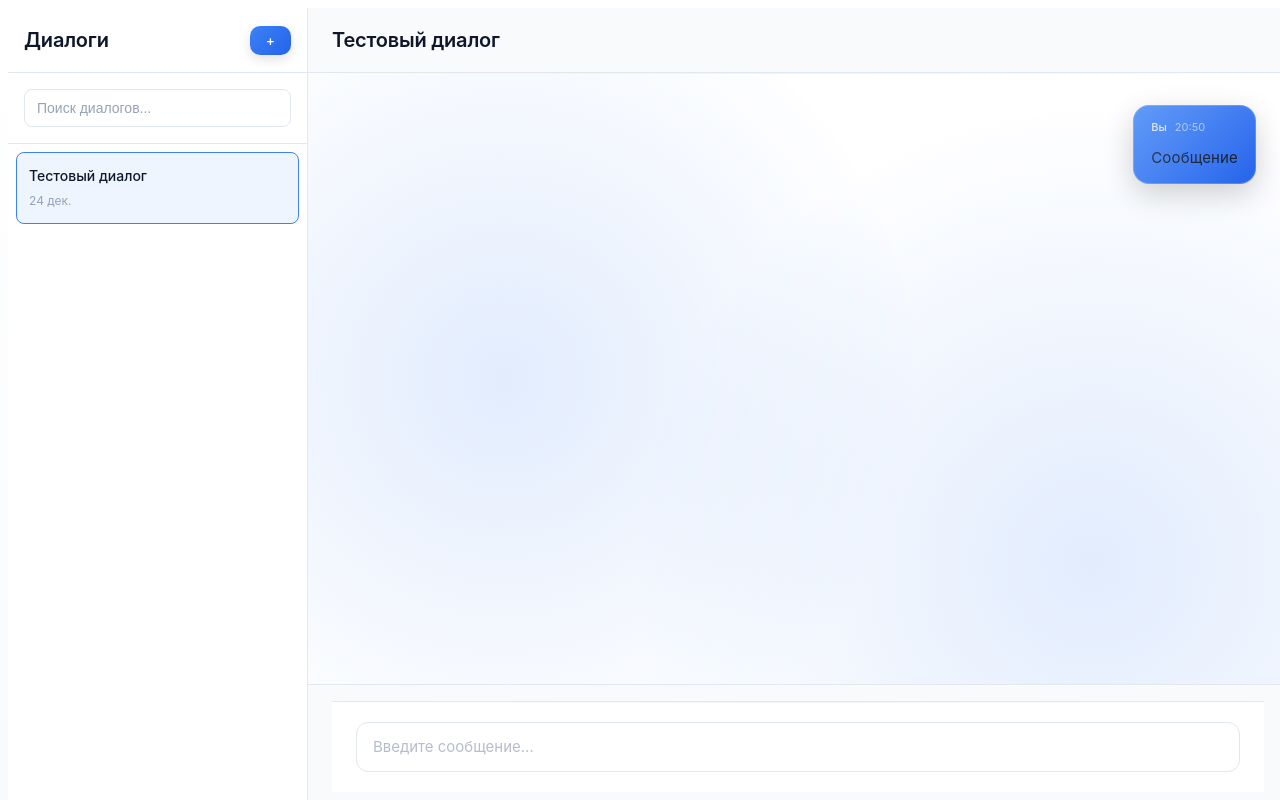
Test: ChatPage тесты › Тест 3: Ошибка отправки › должна показываться ошибка при неудачной отправке
Expected: the text "Тестовый диалог" is shown, [29,167,147,184]
Type "Новое сообщение" into the text box with placeholder "Введите сообщение..." at (798,747), box [356,722,1240,772]
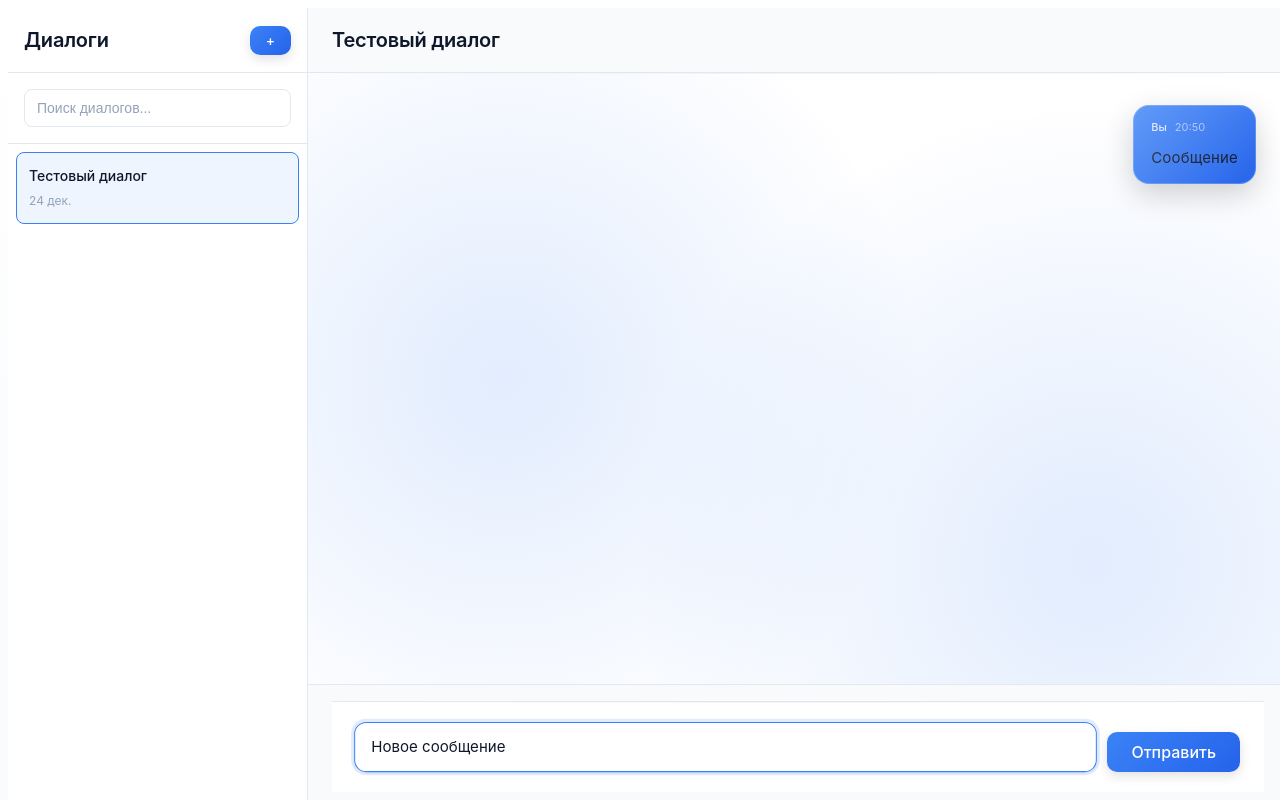
Click the button "Отправить" at (1174,752), box [1108,732,1240,772]
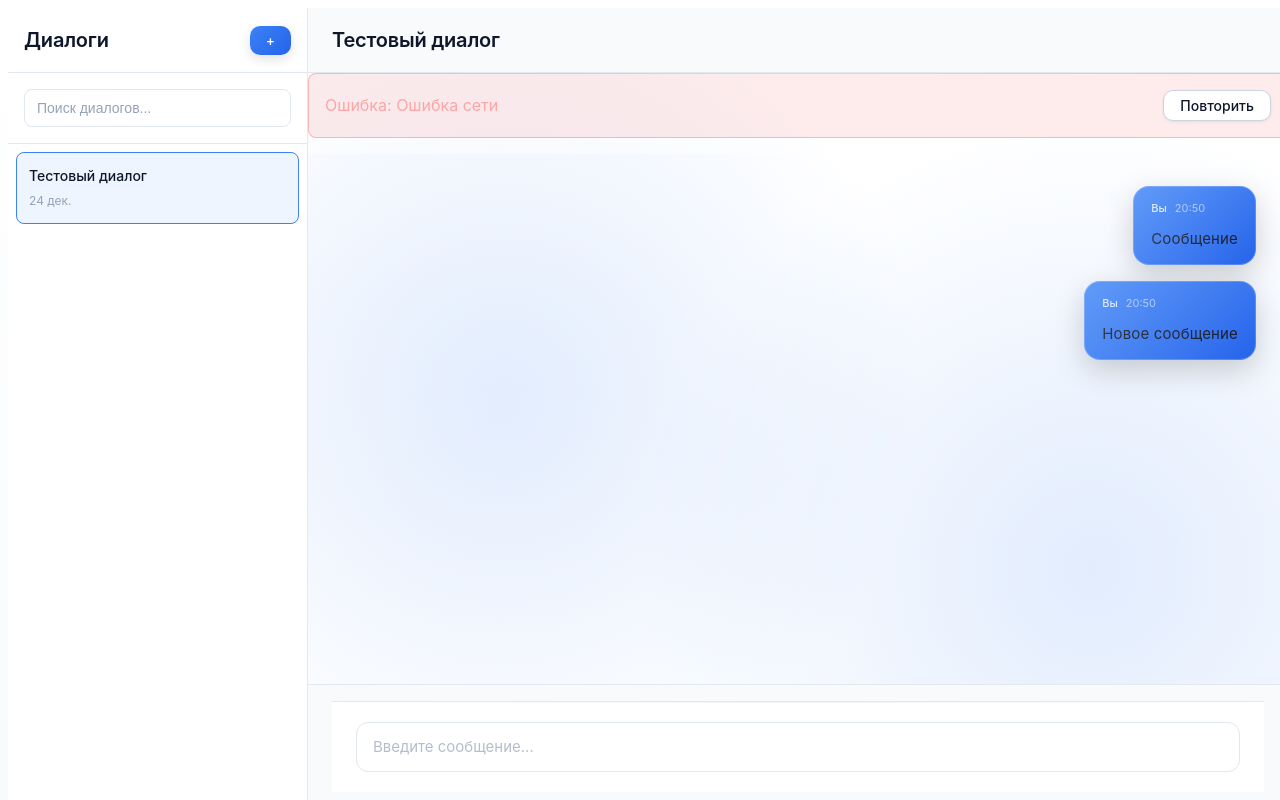
Result: the text "Ошибка: Ошибка сети" is shown at [325,93,498,118]
Result: the button "Повторить" is shown at [1163,90,1271,121]
